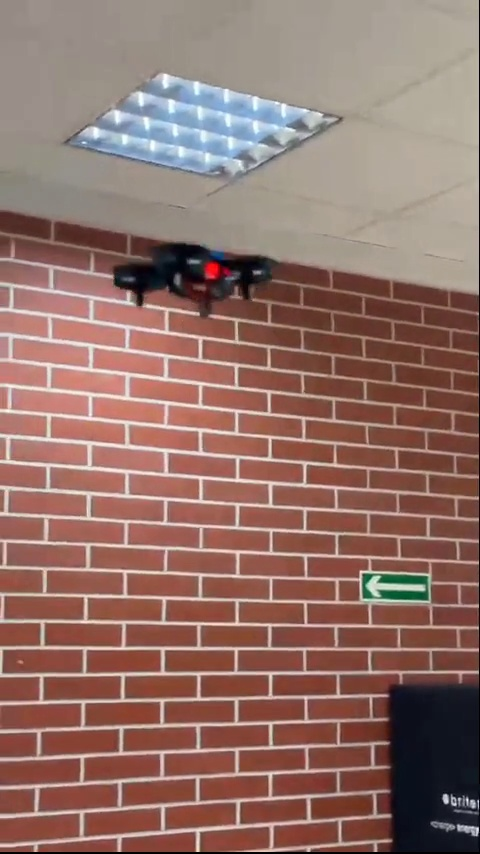drone: (113, 236, 277, 313)
